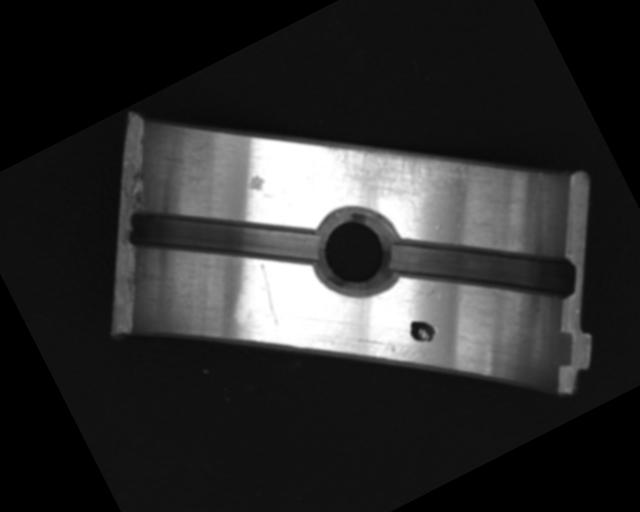blot: (404, 312, 439, 350)
bruise: (243, 170, 269, 196)
gap: (119, 143, 327, 333), (379, 176, 583, 362)
hole: (294, 191, 417, 314)
nick: (246, 263, 291, 328)
scratch: (320, 83, 489, 238)
